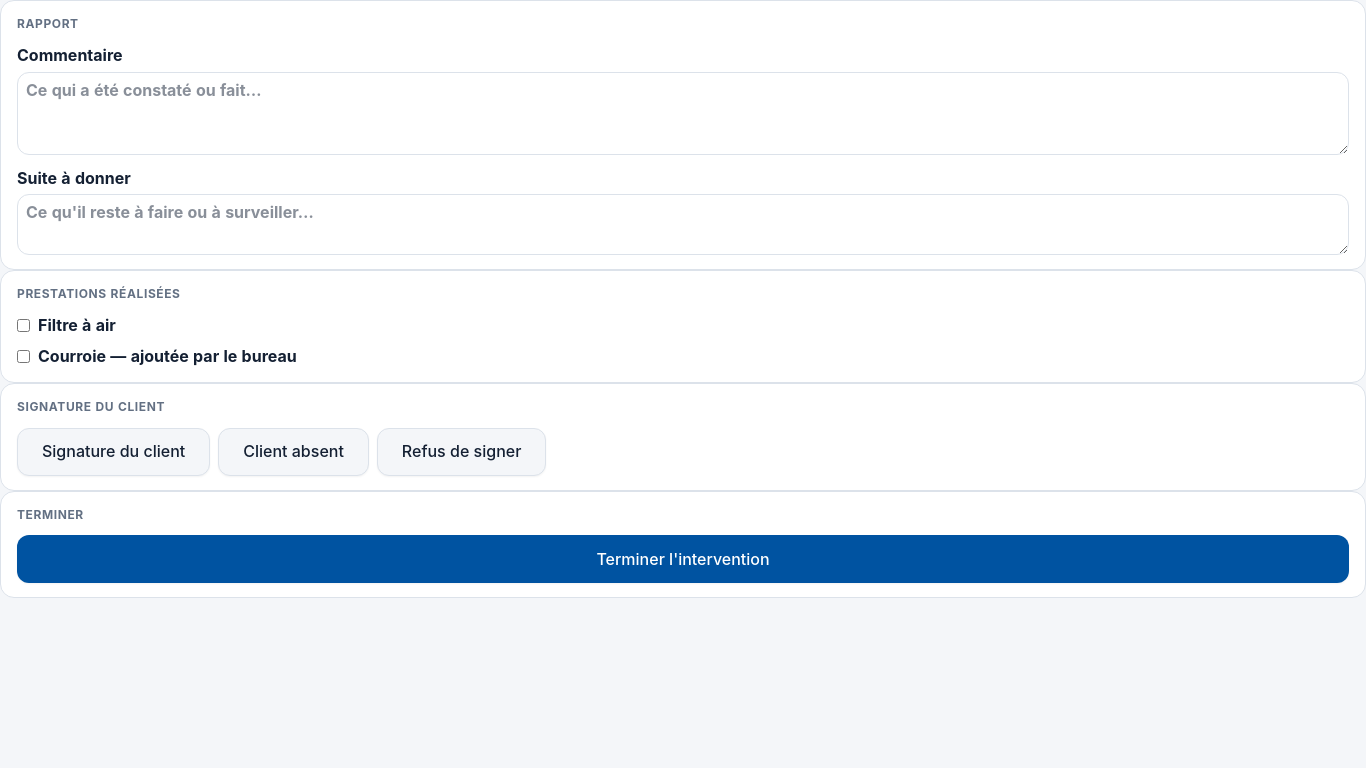
« Terminer » n'appelle jamais /terminer tant qu'un bloc n'est pas accepté (9F4A, point 1) › un rapport jamais parti faute de réseau bloque Terminer, et garde le brouillon
The image size is (1366, 768).
Type "Filtre remplacé" into the text box labelled "Commentaire" at [683, 113], box left=17, top=72, right=1349, bottom=155
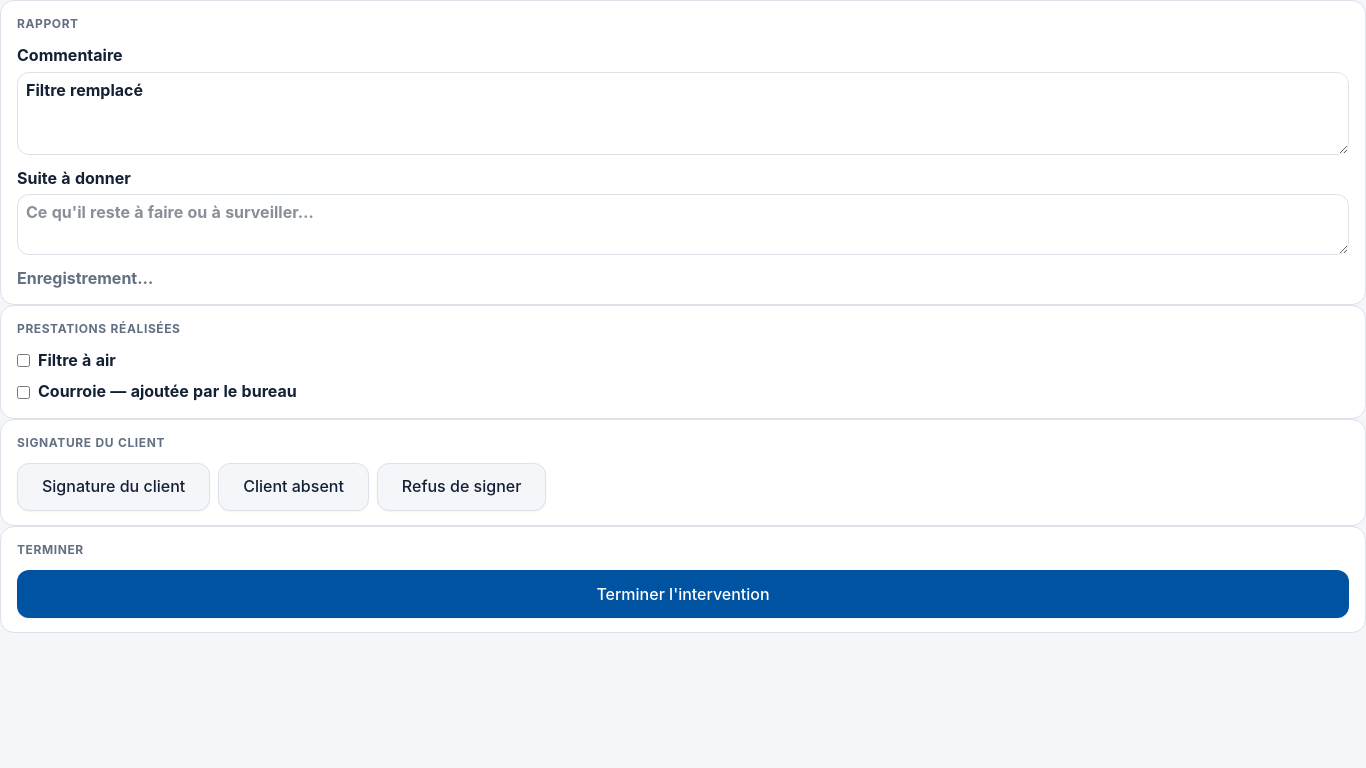
Leave the text box labelled "Commentaire", box left=17, top=72, right=1349, bottom=155
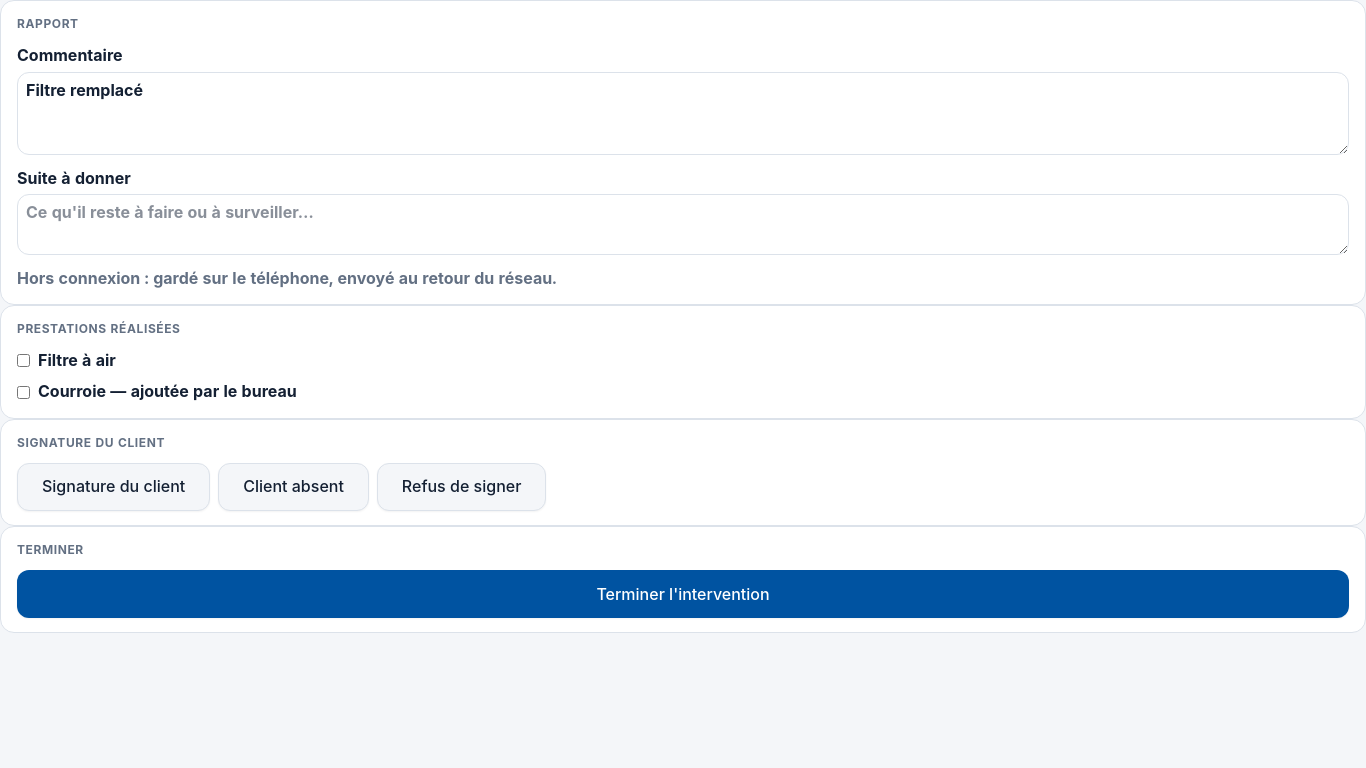
Expected: the text "Hors connexion : gardé sur le téléphone, envoyé au retour du réseau." is shown, left=17, top=268, right=556, bottom=288
Click the button "Terminer l'intervention" at [683, 594], box left=17, top=570, right=1349, bottom=618
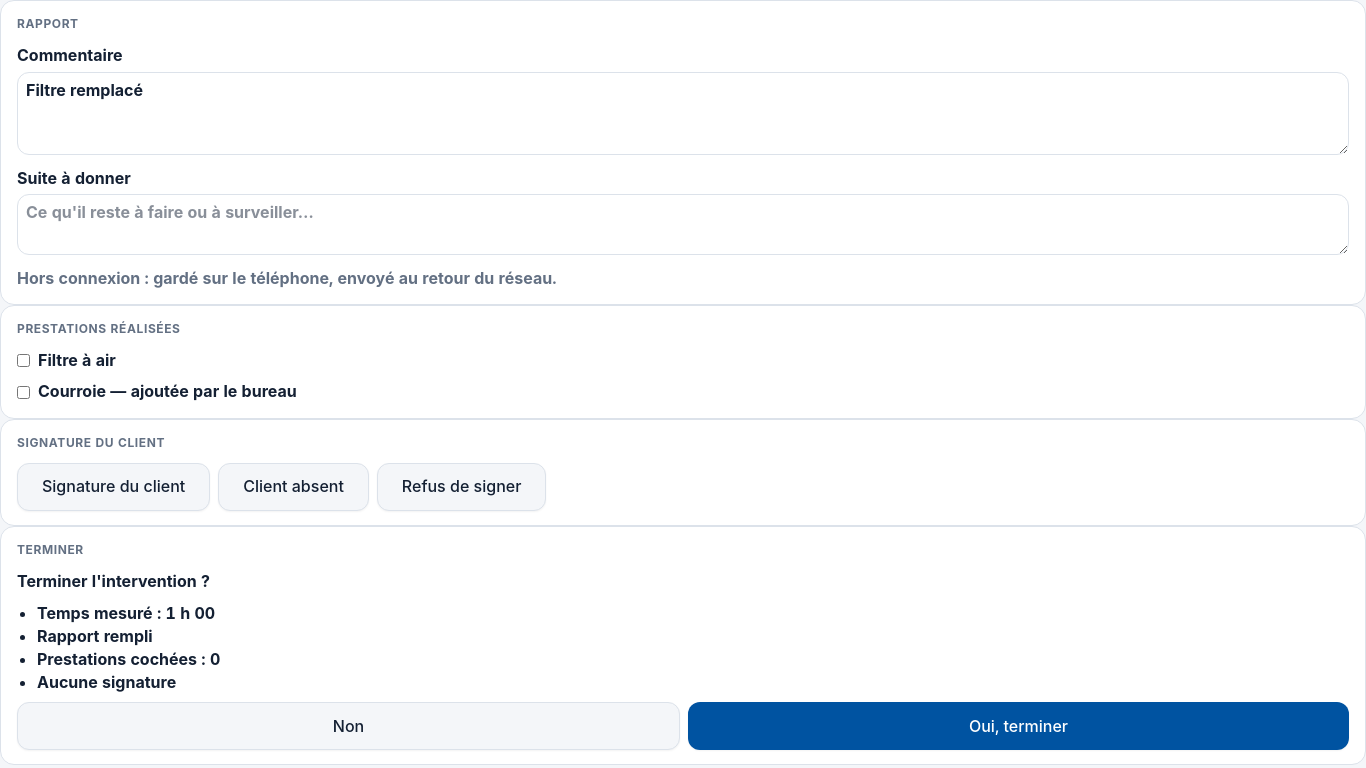
Click the button "Oui, terminer" at [1018, 726], box left=688, top=702, right=1349, bottom=750
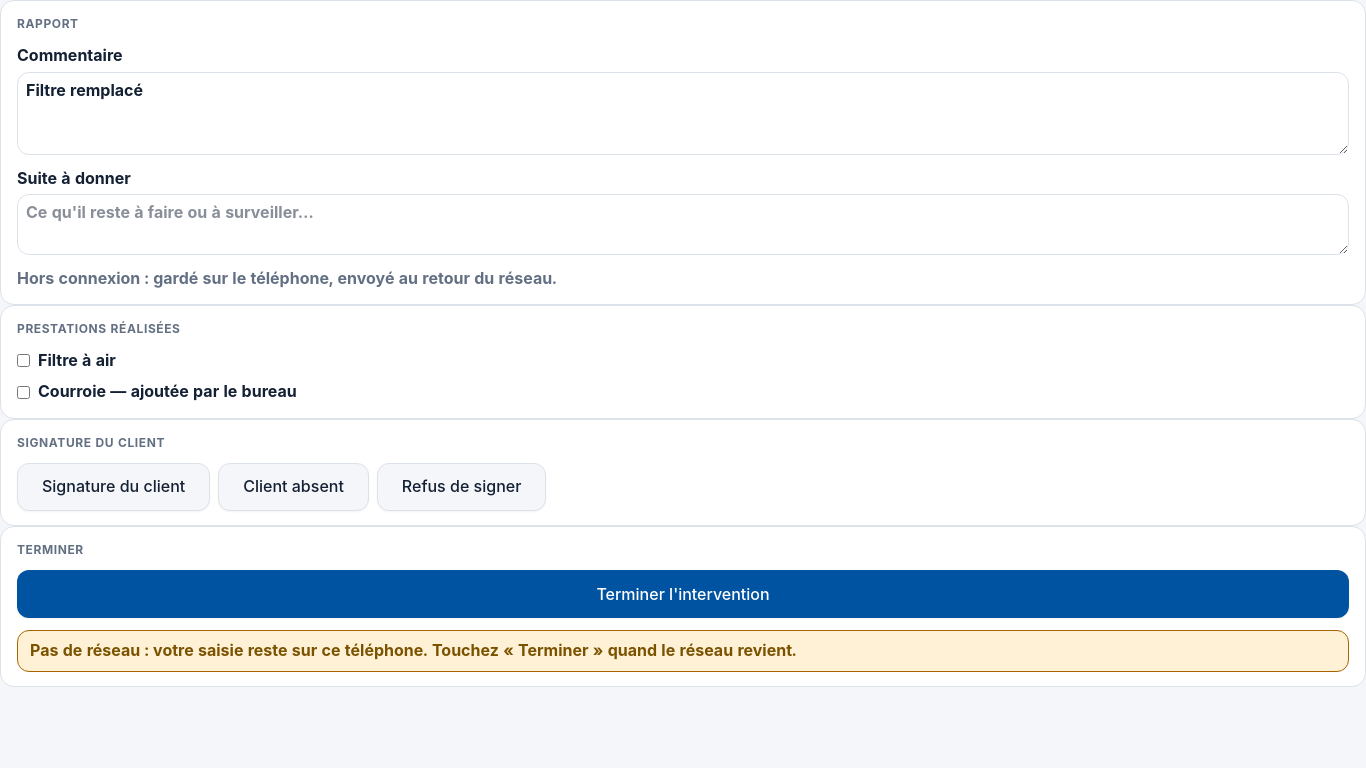
Expected: the text "Pas de réseau : votre saisie reste sur ce téléphone. Touchez « Terminer » quand le réseau revient." is shown, left=30, top=640, right=796, bottom=660
